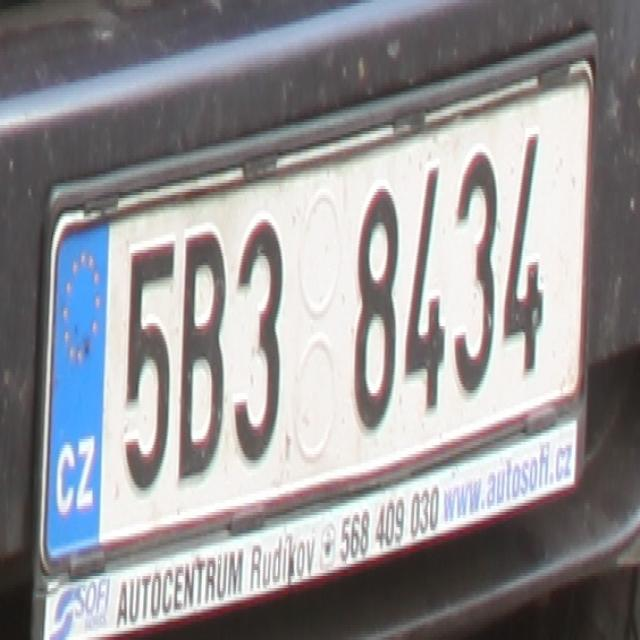3: (232, 210, 282, 460), (452, 143, 496, 399)
4: (503, 134, 546, 375), (403, 168, 444, 418)
5: (124, 241, 172, 494)
8: (350, 186, 400, 436)
B: (176, 228, 225, 482)
